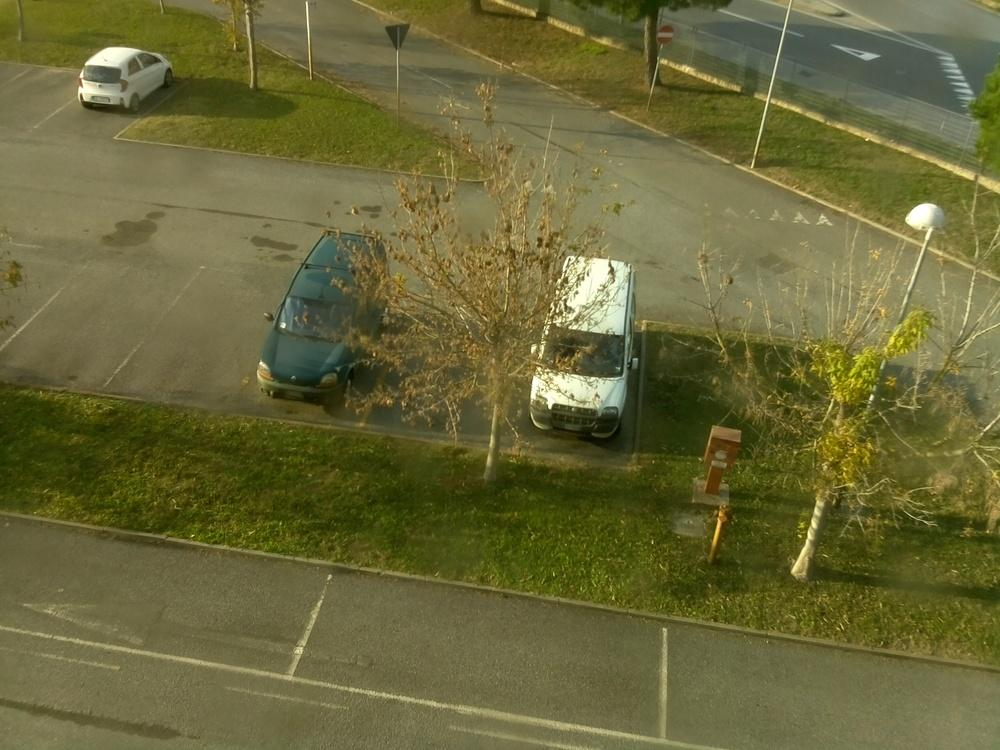empty: (252, 241, 403, 406), (72, 48, 177, 114)
occupied: (371, 595, 602, 701), (691, 651, 907, 750), (172, 269, 262, 413), (50, 266, 130, 383), (13, 56, 67, 132)
